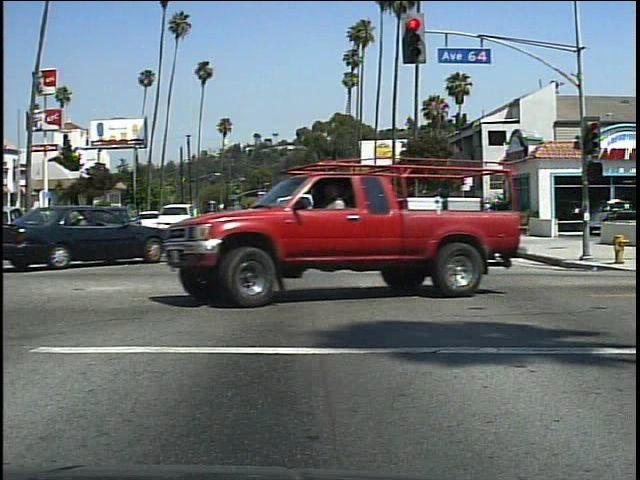person: (322, 177, 362, 293), (475, 200, 499, 236)
